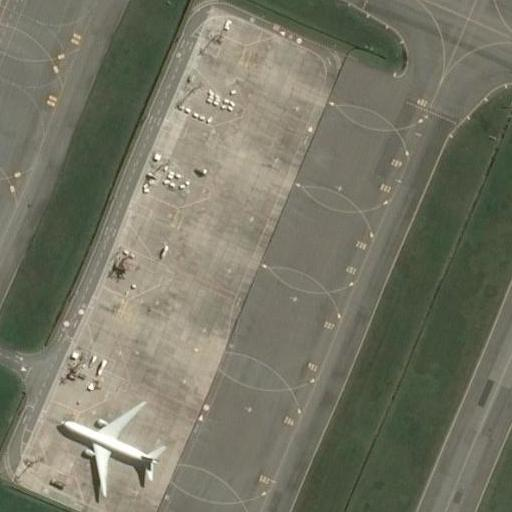Aircraft: (52, 396, 180, 502)
